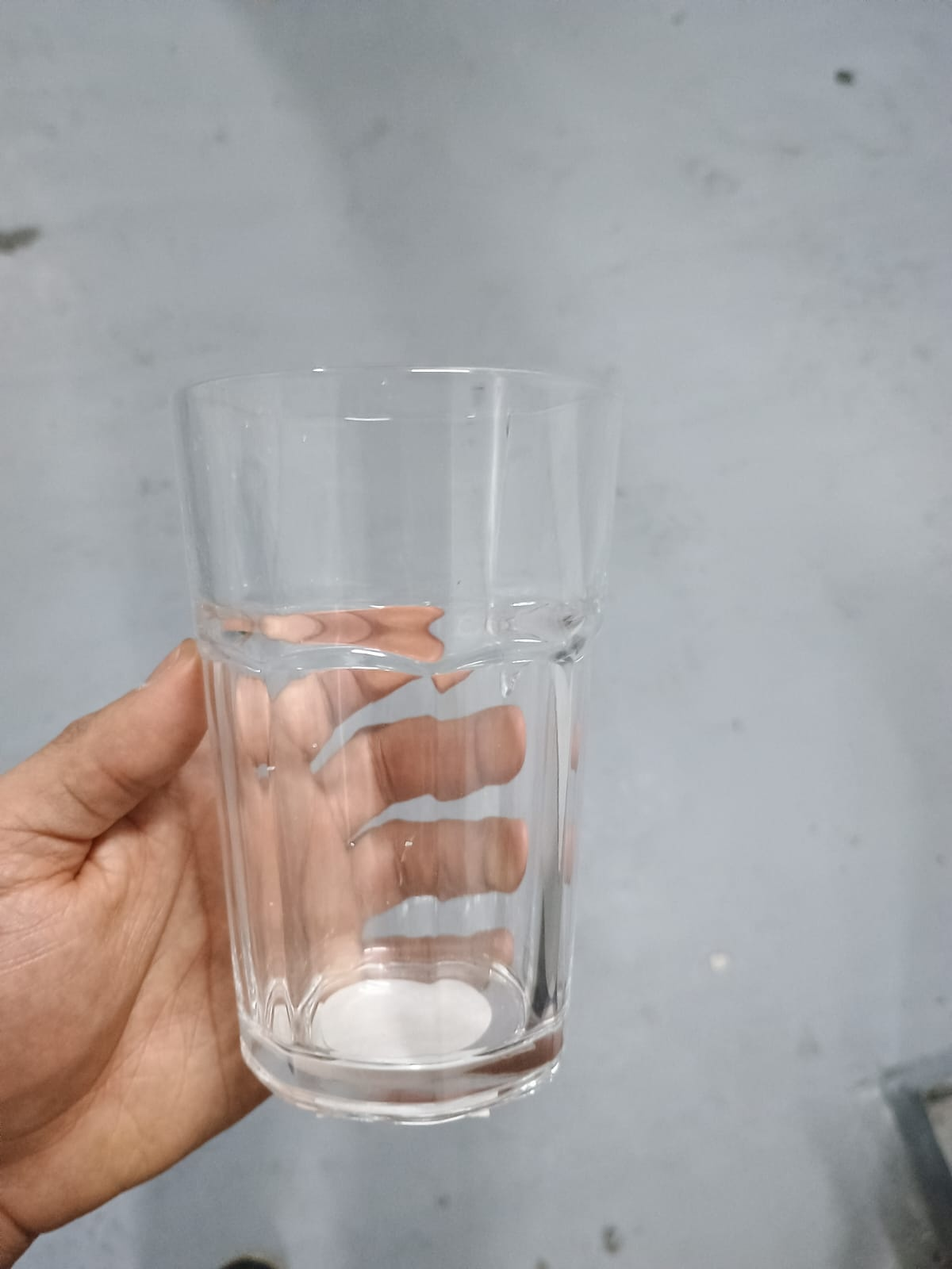Vidrio: (172, 359, 616, 1127)
